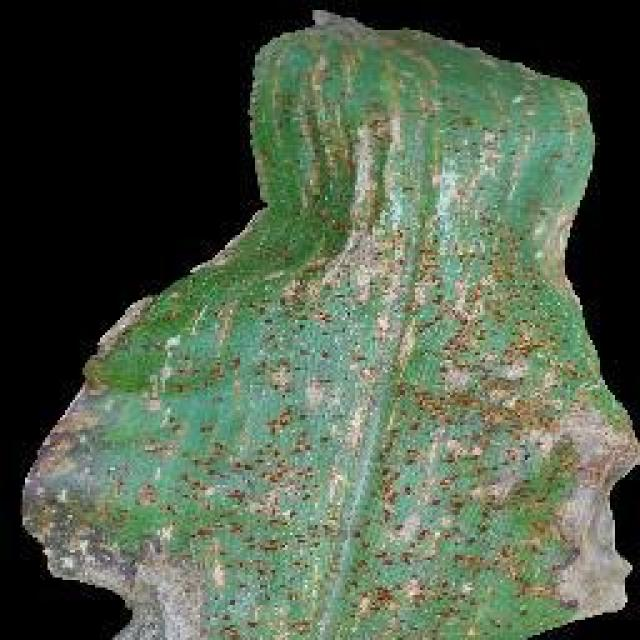Corn Common Rust: (175, 185, 640, 640)
